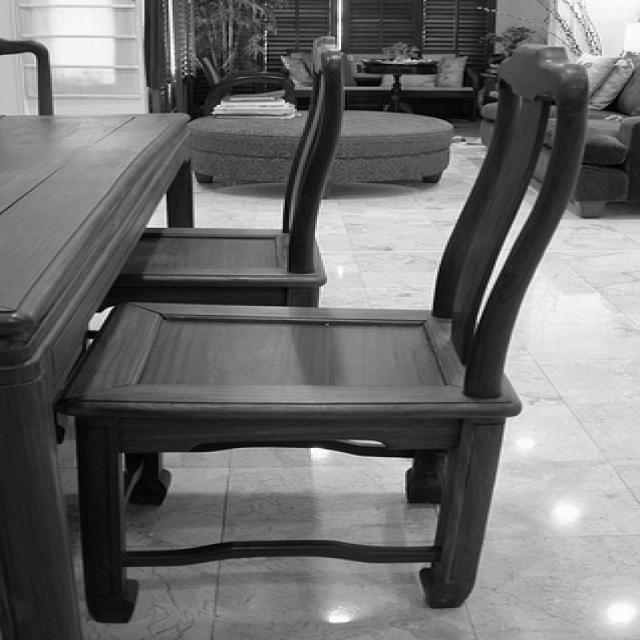chair: (83, 54, 601, 636), (98, 56, 349, 308)
